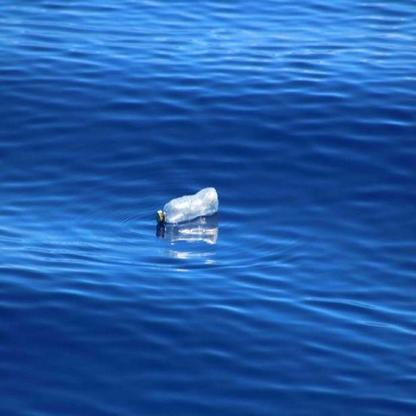plastic bottle: (156, 187, 218, 224)
